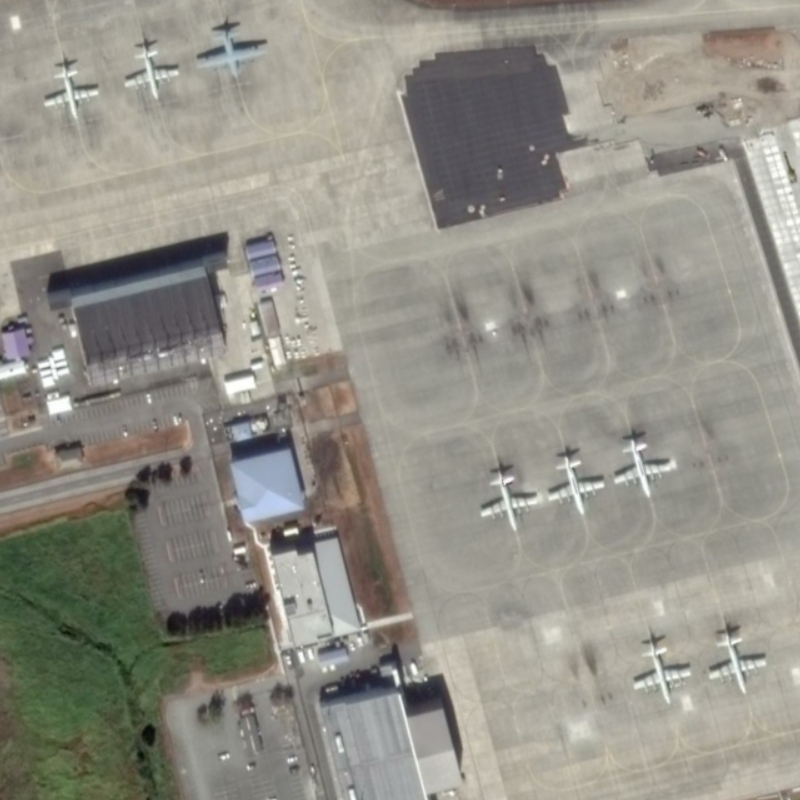A2: (192, 24, 271, 83)
A9: (626, 638, 694, 708), (704, 626, 771, 697), (474, 464, 540, 535), (611, 435, 674, 500), (549, 453, 608, 518), (40, 61, 100, 121), (123, 41, 182, 102)
